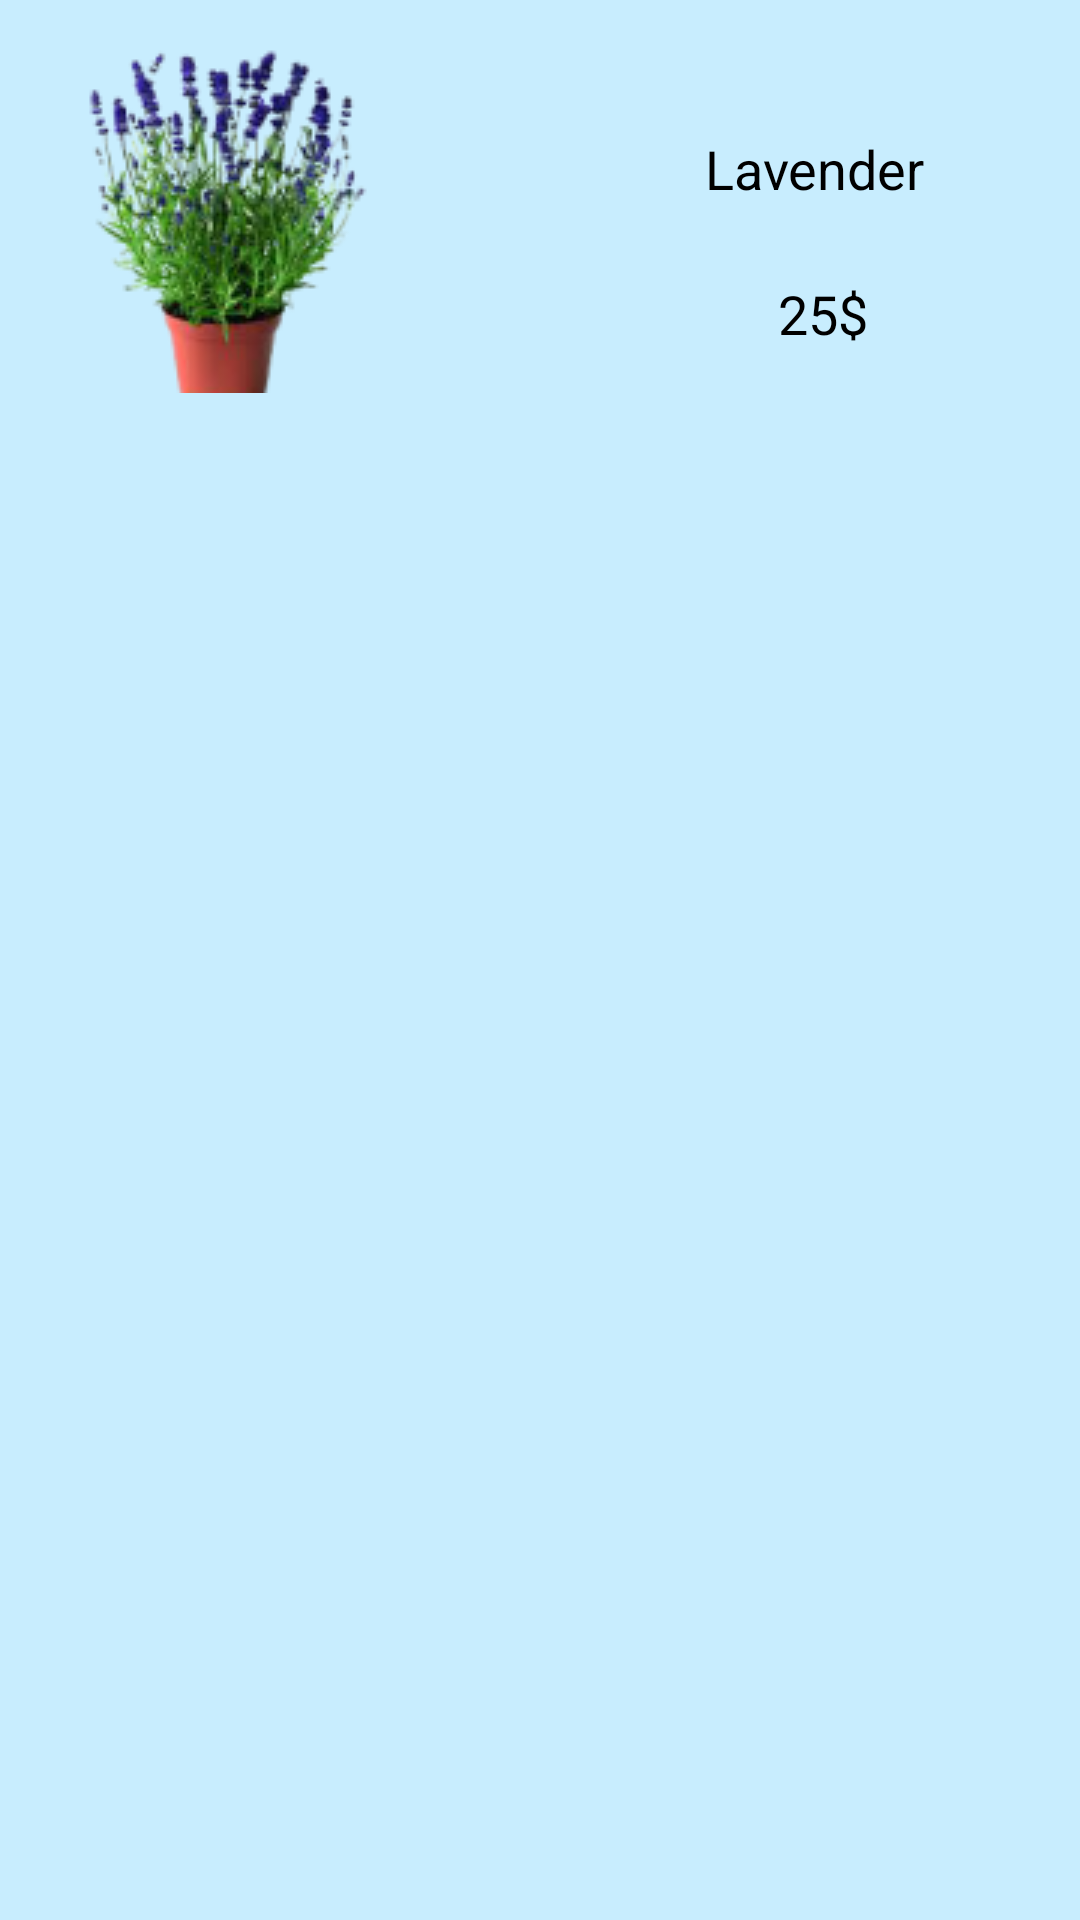

Locate icon controls on the screen. Image size 1080px x 1920px, boxes as box(x1, y1, x2, y2).
lavender: box(89, 51, 366, 393)
